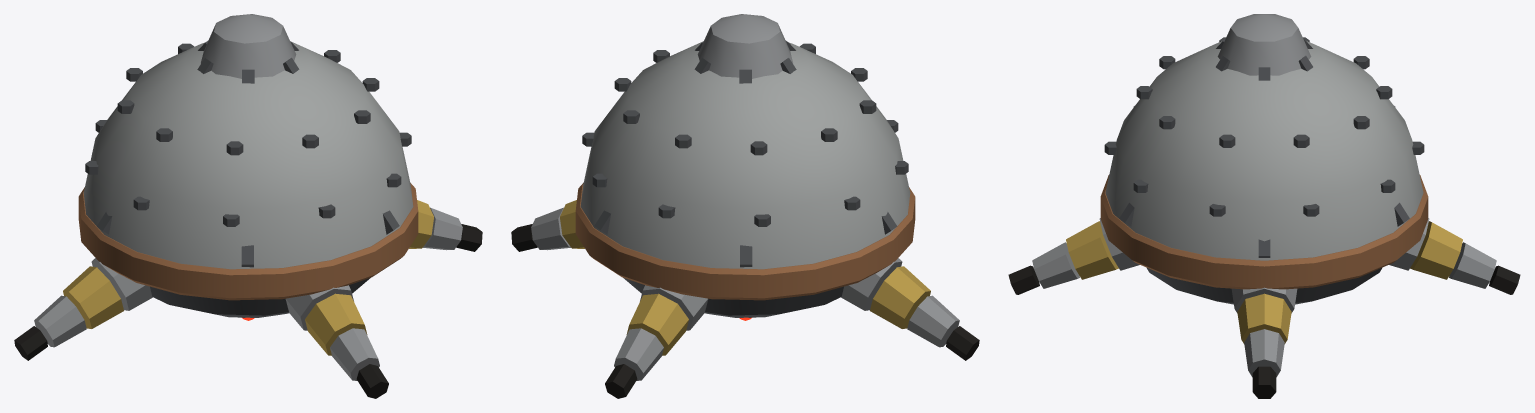
Rendered from destroyer.glb.
3 renders of one model, left to right at view 1: azimuth 30°, elevation 25°; view 2: azimuth 150°, elevation 25°; view 3: azimuth 270°, elevation 25°, orthographic. The views are drawn at different scales.
Visible parts, largest first — view 1: body; view 2: body; view 3: body.
Part boxes in pixels (x1,y1,x2,y2): body: (14, 14, 482, 398); body: (511, 14, 979, 398); body: (1008, 14, 1520, 398).
Size of the model in its own units: 1.33 by 0.8403 by 1.32.
